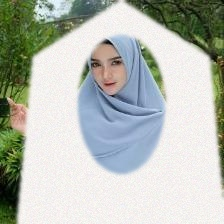Mukena: (12, 27, 224, 224)
